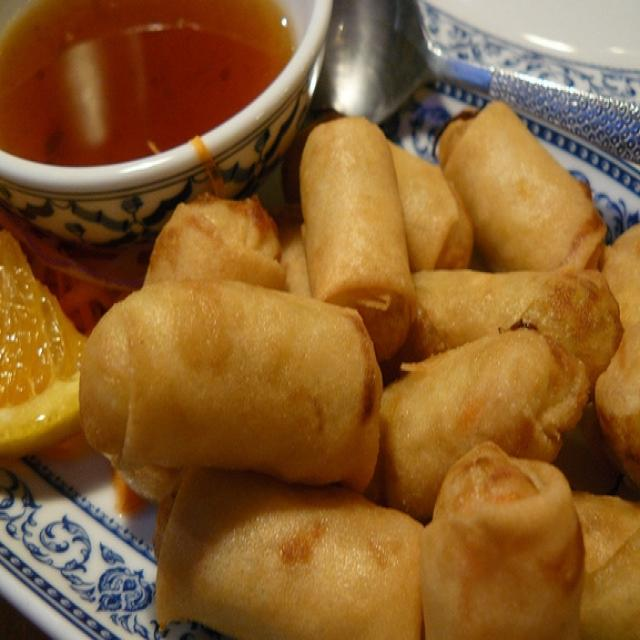炸货点心: (100, 150, 613, 610)
